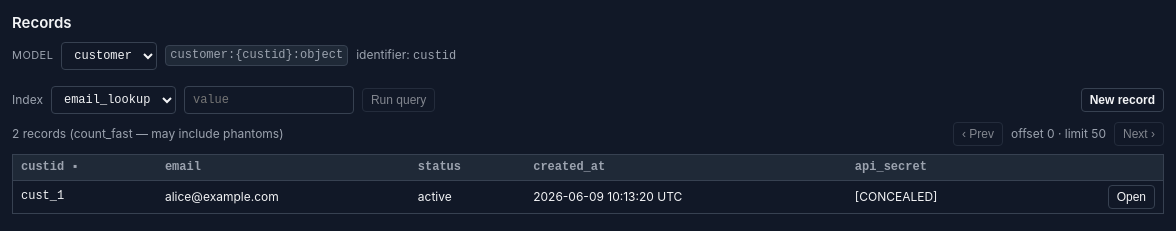
descriptor-driven listing (AC3: two models, zero hardcoding) › switches to the second model and renders ITS identifier and fields
The width and height of the screenshot is (1176, 231).
Expected: the table with test id "records-table" is shown, [12, 154, 1164, 214]
Select "session" in the dropdown with test id "records-model-select" at (109, 56), box [61, 42, 157, 70]
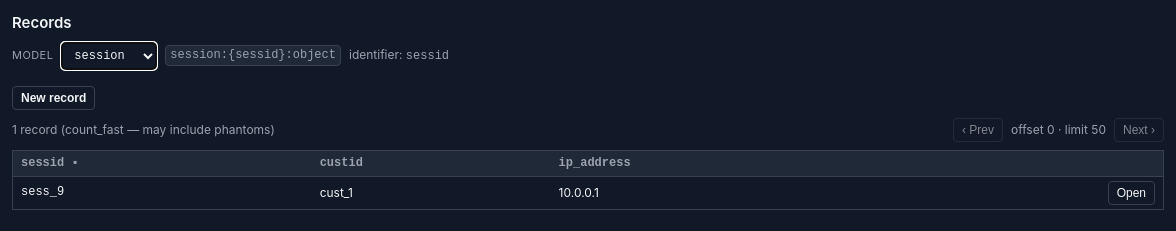
Expected: the button with test id "records-open-sess_9" is shown, [1108, 181, 1155, 205]
Expected: the column heading "sessid ▪" is shown, [12, 150, 312, 177]
Expected: the text "sess_9" is shown, [12, 177, 312, 210]
